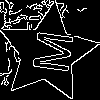M: (23, 28, 74, 75)
